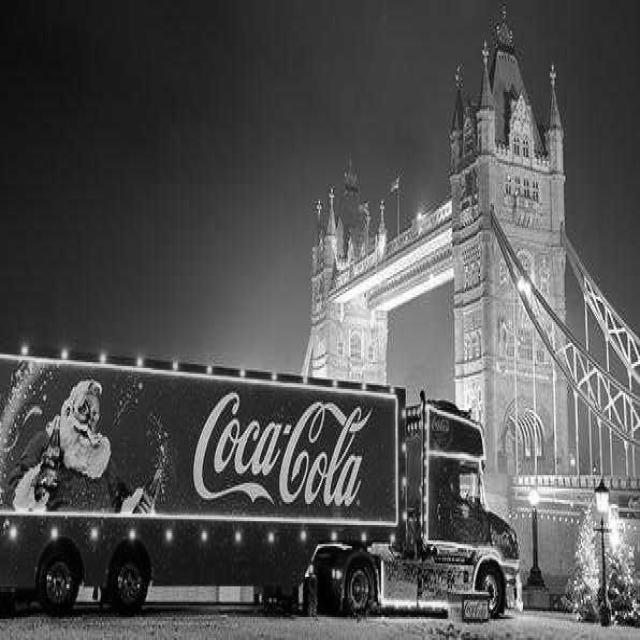Truck: (0, 348, 520, 616)
